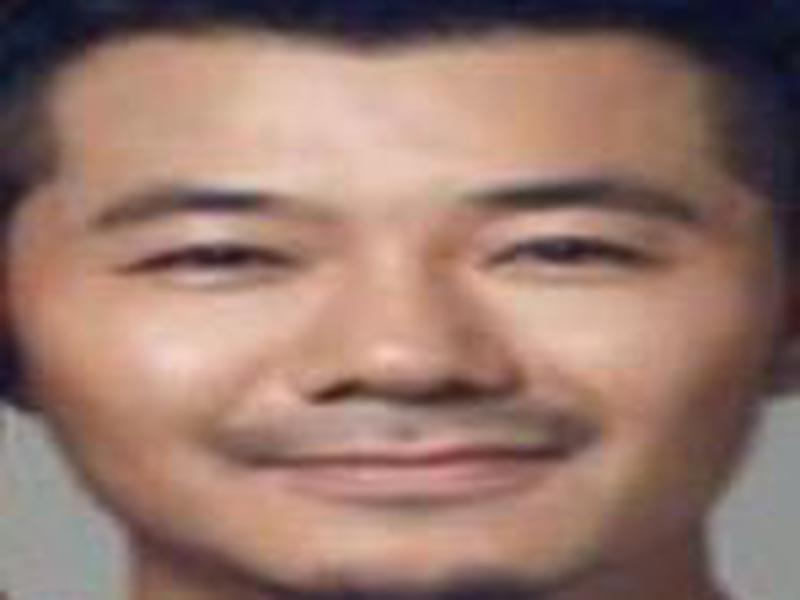without_mask: (38, 70, 746, 595)
